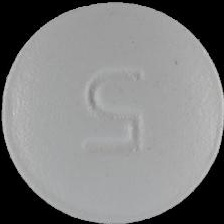61786-552: (0, 0, 224, 224)
